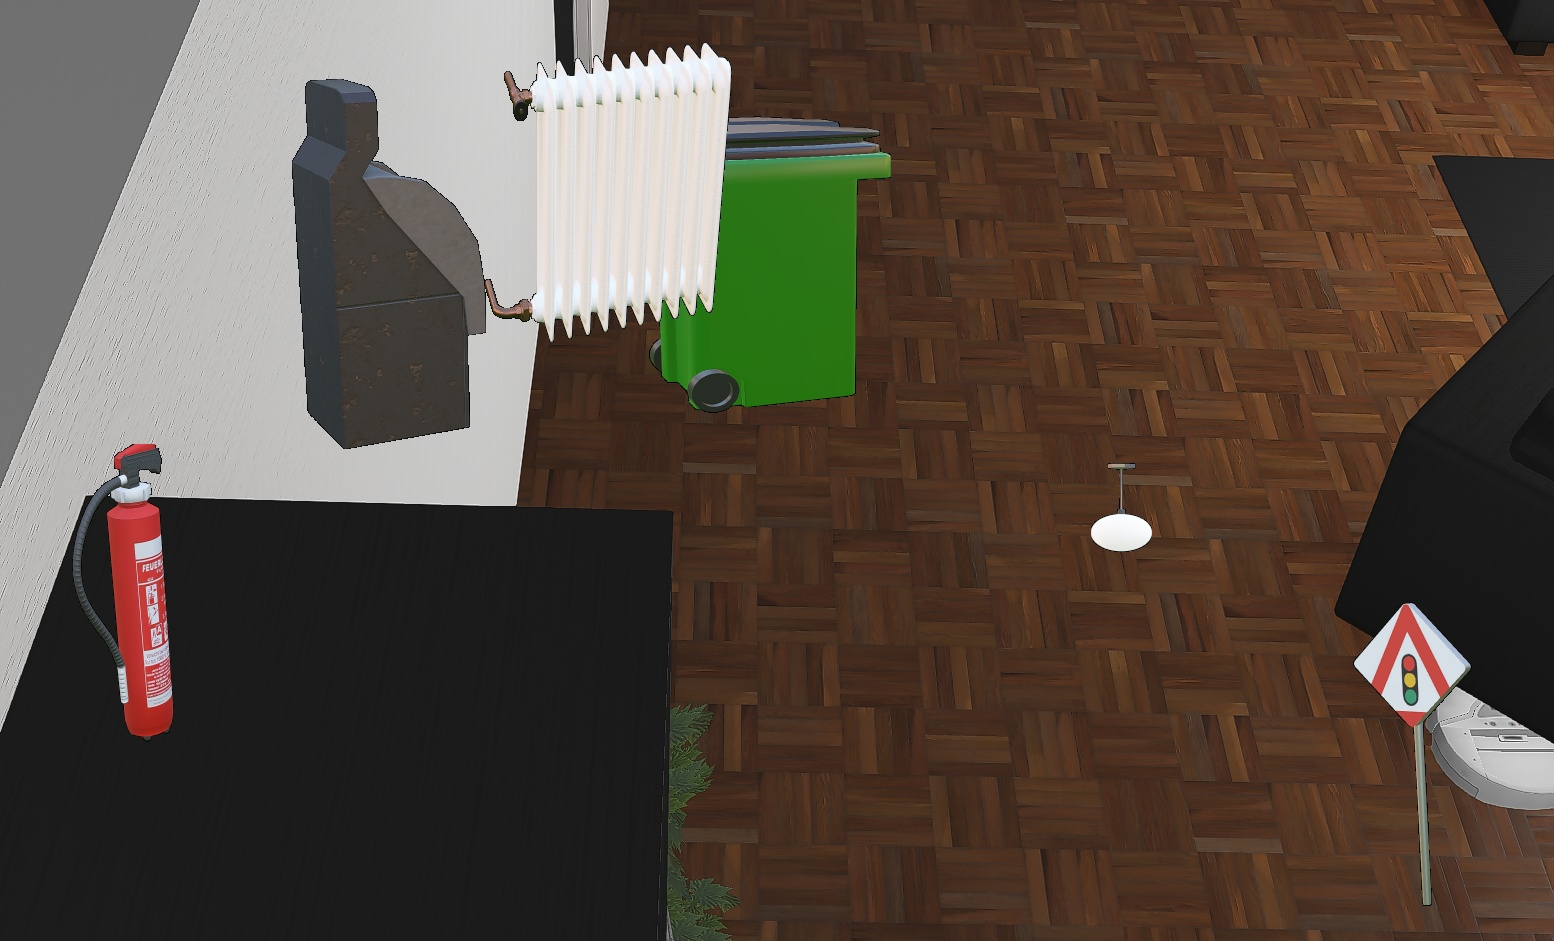atm: (291, 78, 487, 451)
contenedor: (613, 117, 892, 413)
estufa: (484, 42, 731, 343)
extintor: (72, 444, 174, 742)
luz: (1090, 463, 1153, 552)
senal: (1353, 603, 1472, 905)
